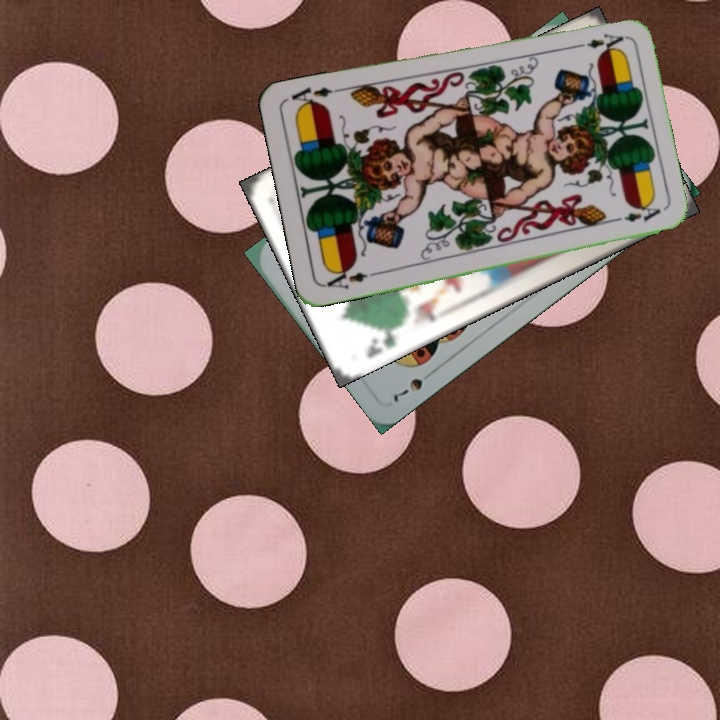EA: (320, 263, 379, 292), (568, 29, 626, 51)
GK: (363, 322, 403, 362)
S7: (389, 365, 438, 405)
